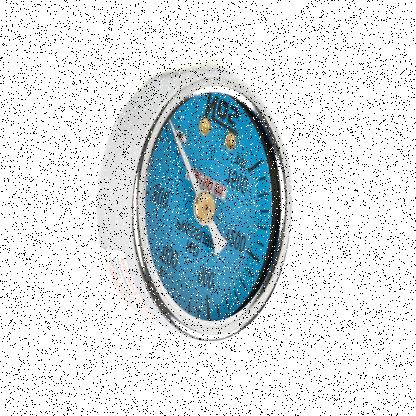needle: (168, 118, 202, 197)
